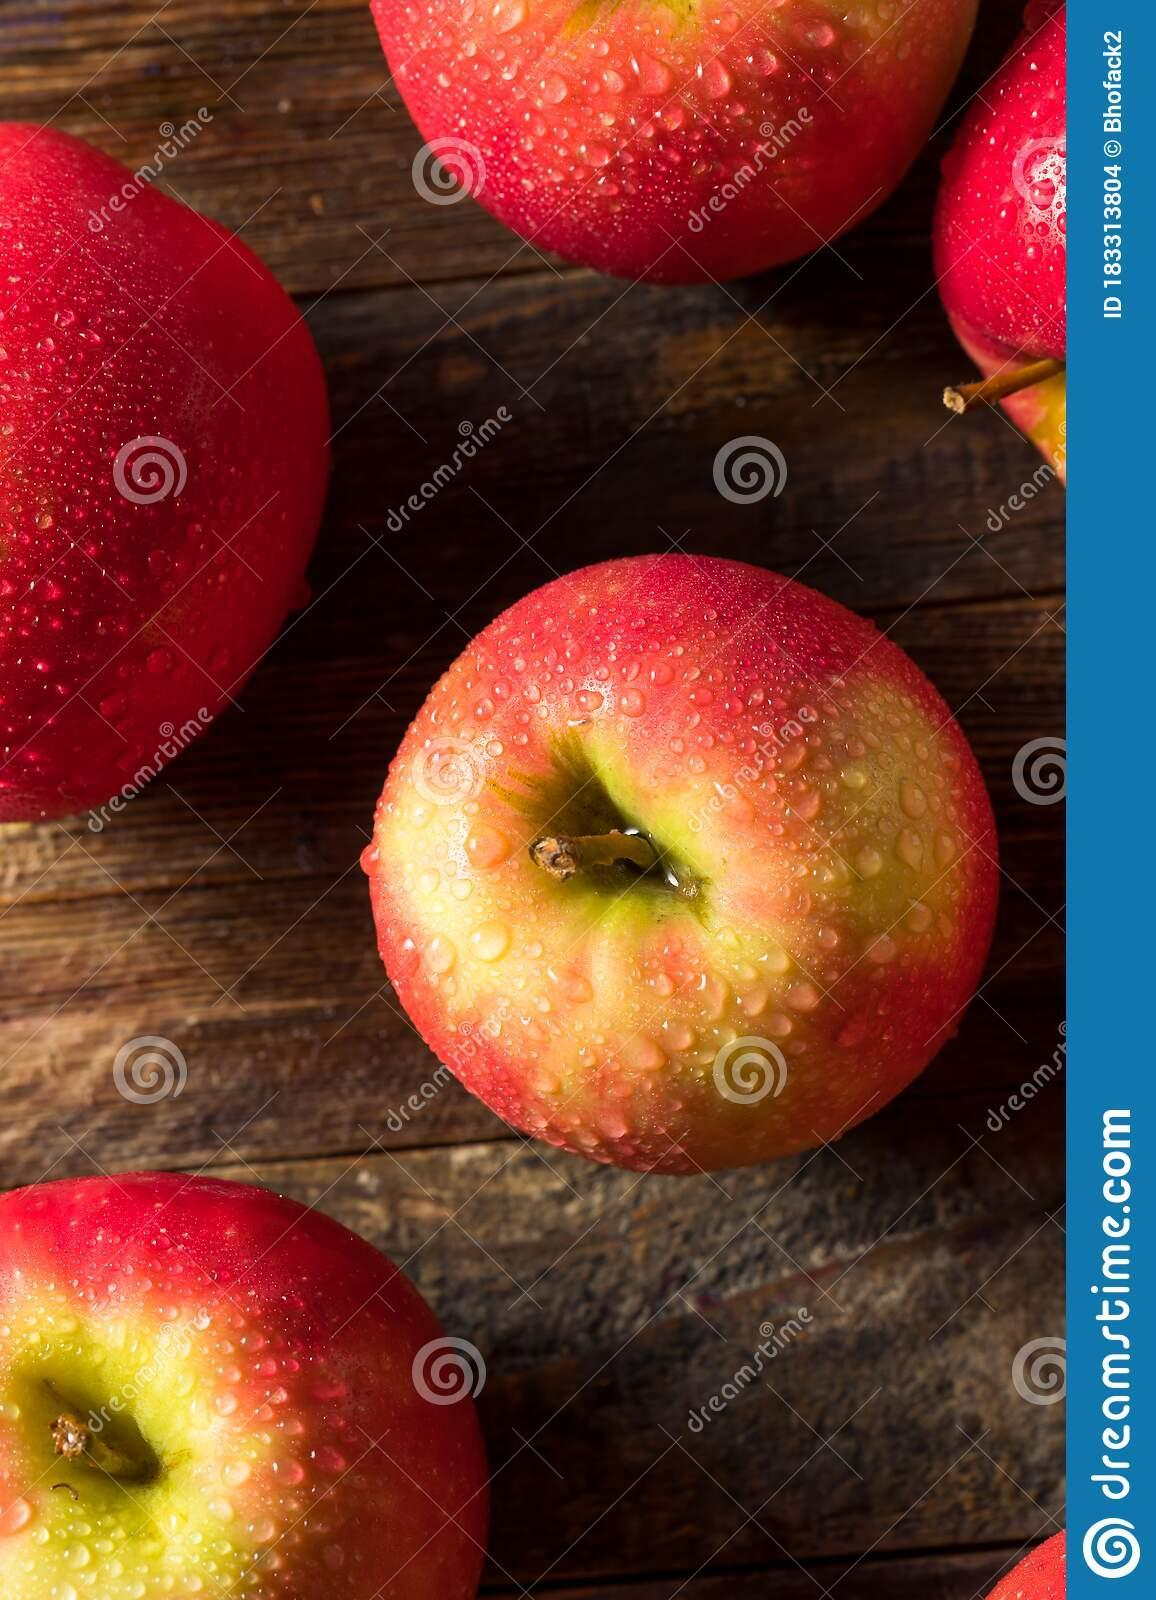apple: (359, 545, 995, 1176), (2, 1171, 485, 1599), (363, 1, 965, 283), (941, 6, 1063, 499)
